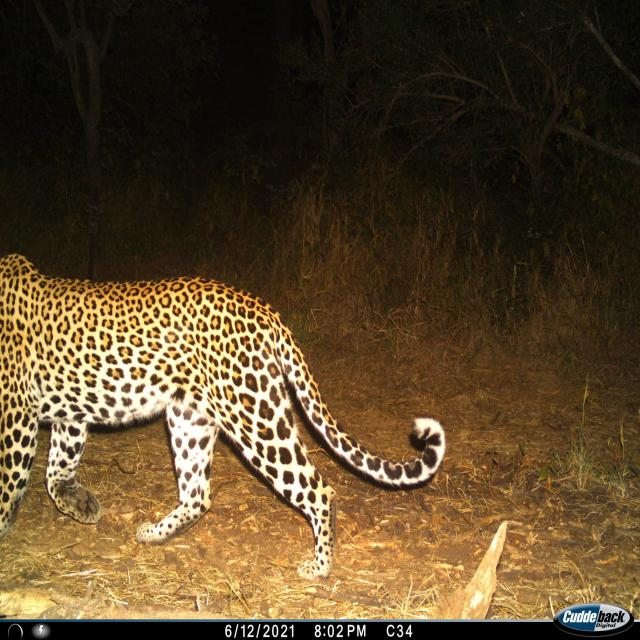Leopard: (0, 243, 455, 574)
